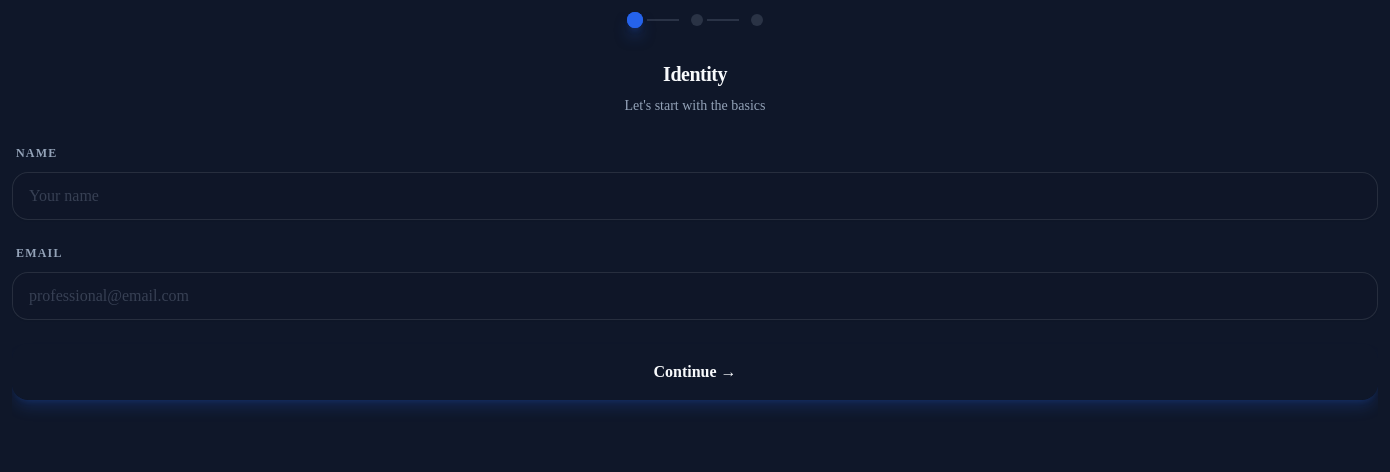
Test: WaitlistForm › Full Variant › shows duplicate email error message
Type "Jane Doe" into the field with placeholder "Your name" at (695, 196), box [12,172,1378,220]
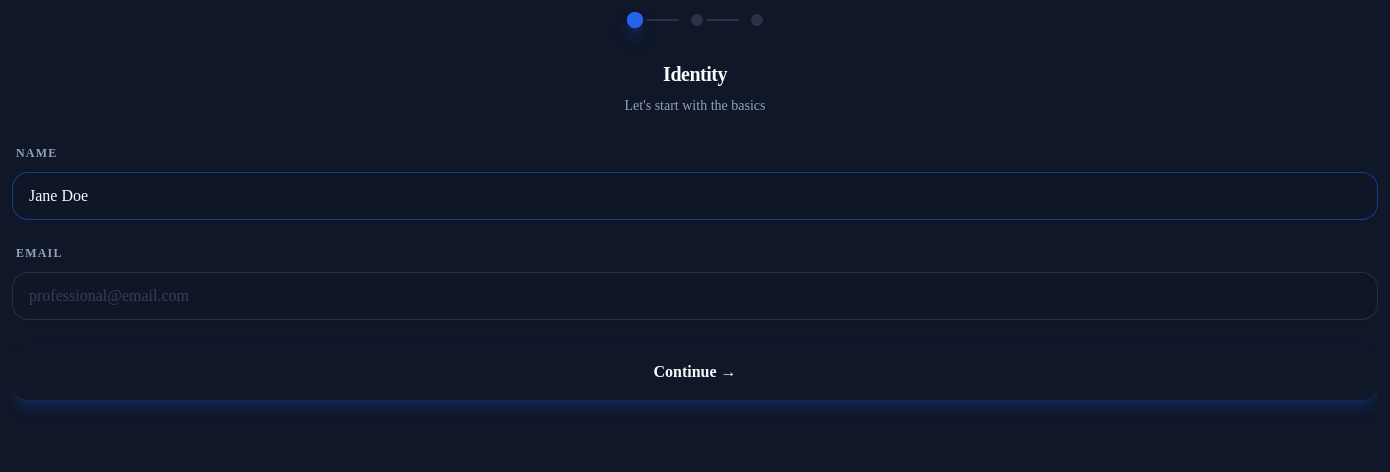
Type "dupe@example.com" into the field with placeholder "professional@email.com" at (695, 296), box [12,272,1378,320]
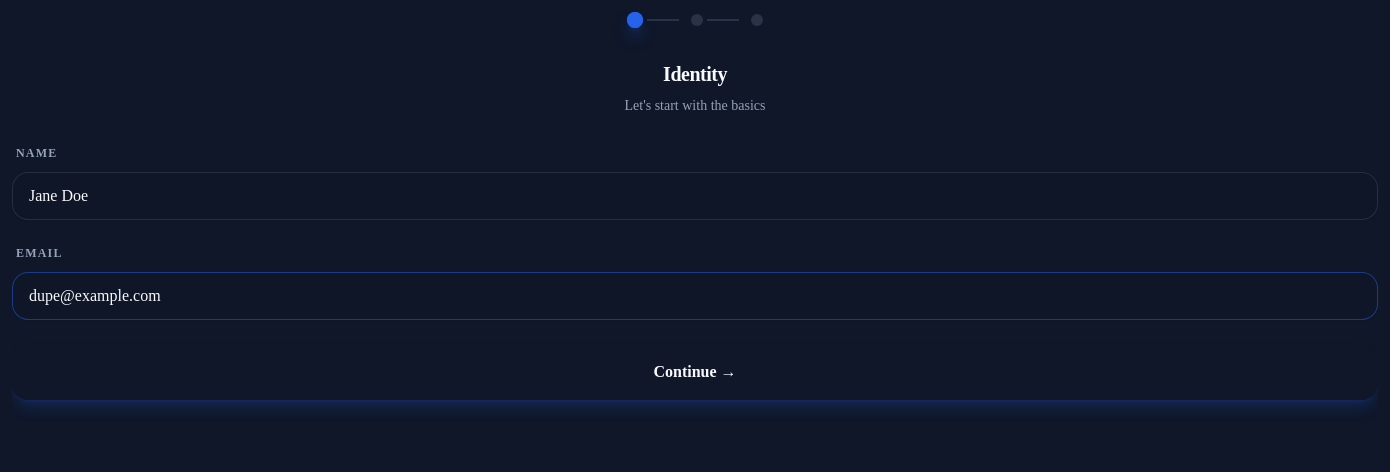
Submit the form "Identity Let's start with the basics Name Email Continue →"
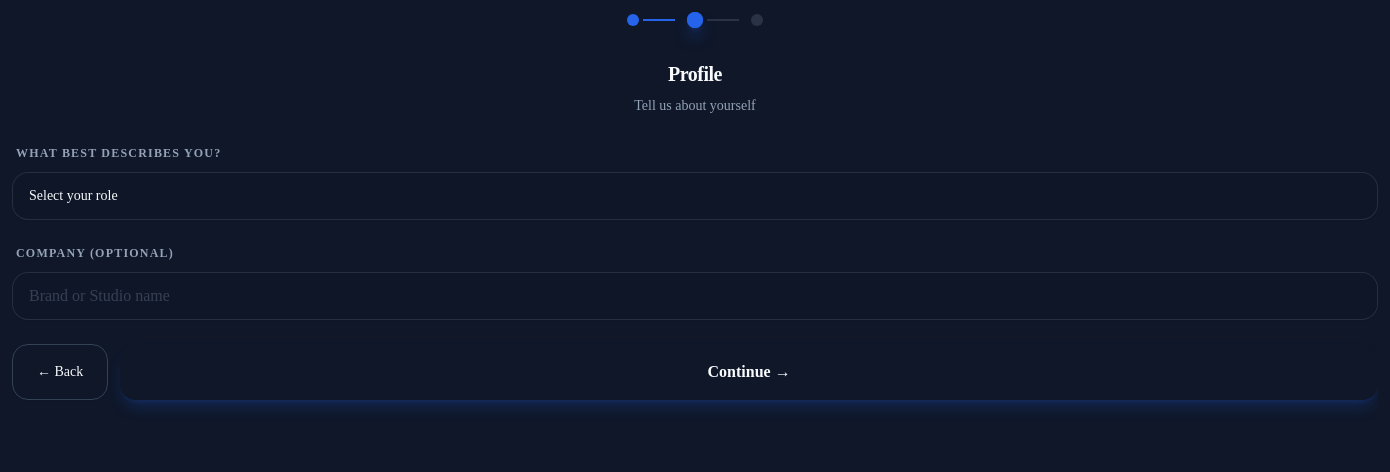
expect the heading "Profile" is shown: met, box [668,63,722,85]
Select "Fashion Brand / Retailer" in the dropdown at (695, 196), box [12,172,1378,220]
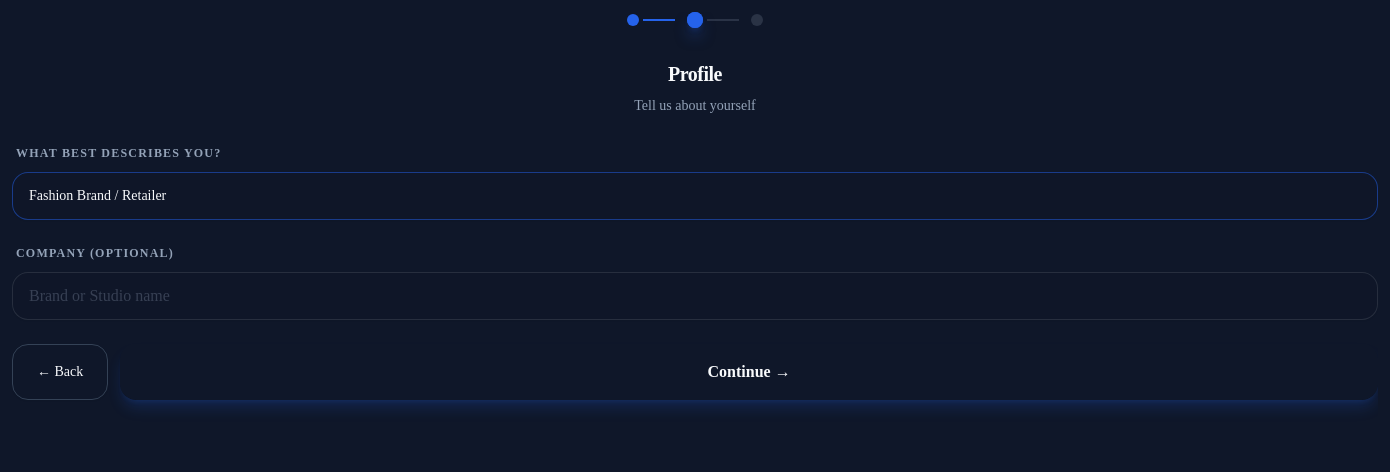
Submit the form named "continue"
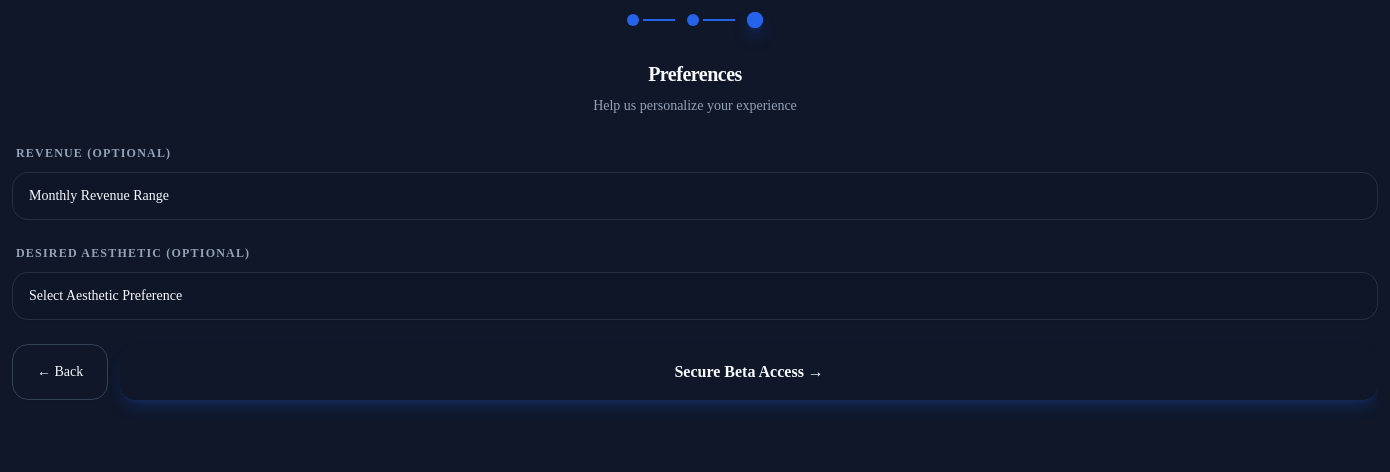
expect the heading "Preferences" is shown: met, box [648,63,742,85]
Submit the form named "continue"
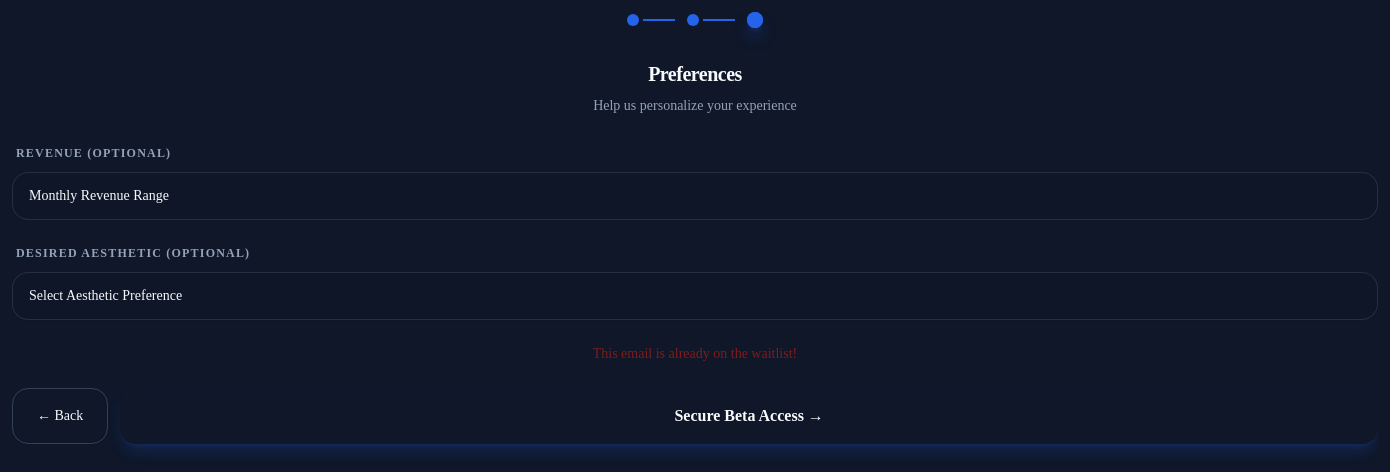
expect the text "This email is already on the waitlist!" is shown: met, box [593,346,797,361]
